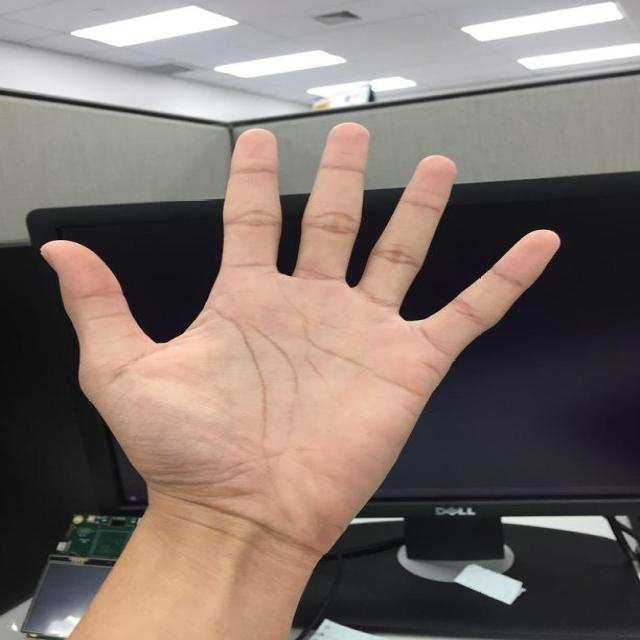hand: (41, 119, 560, 555)
